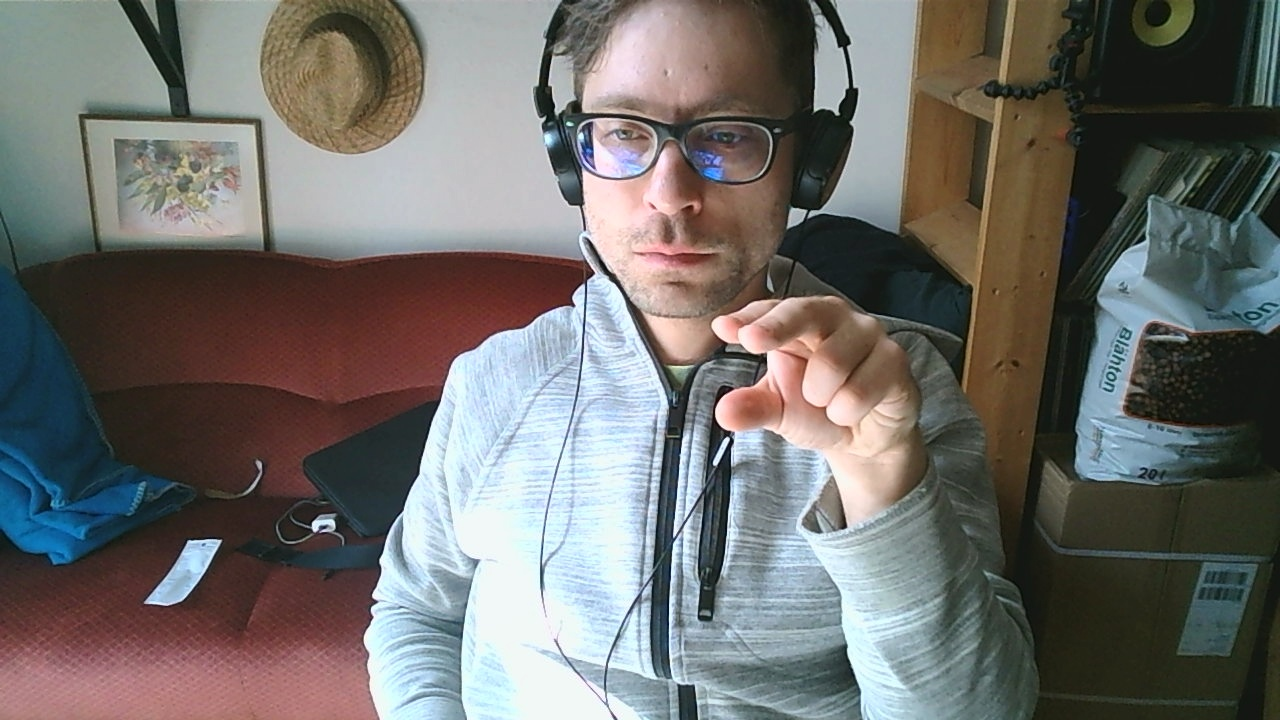no: (710, 296, 925, 454)
